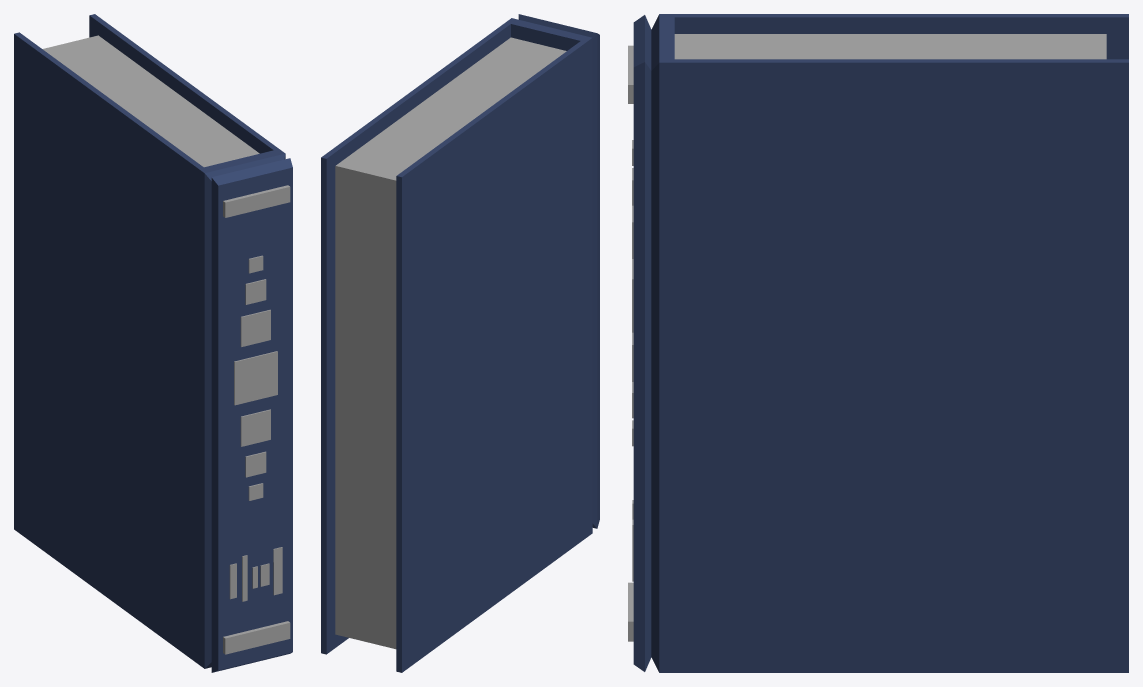
File: Book_Tall.fbx
3 views of the same model, side by side, from view 1: azimuth 30°, elevation 25°; view 2: azimuth 150°, elevation 25°; view 3: azimuth 270°, elevation 25° (orthographic). The views are drawn at different scales.
Visible parts, largest first — view 1: Book_v2; view 2: Book_v2; view 3: Book_v2.
Part boxes in pixels (x1=…): Book_v2: x1=14, y1=14, x2=292, y2=672; Book_v2: x1=321, y1=14, x2=599, y2=672; Book_v2: x1=628, y1=14, x2=1128, y2=672.
Bounding box in the file's own units: 3.34 × 19.58 × 14.56.
